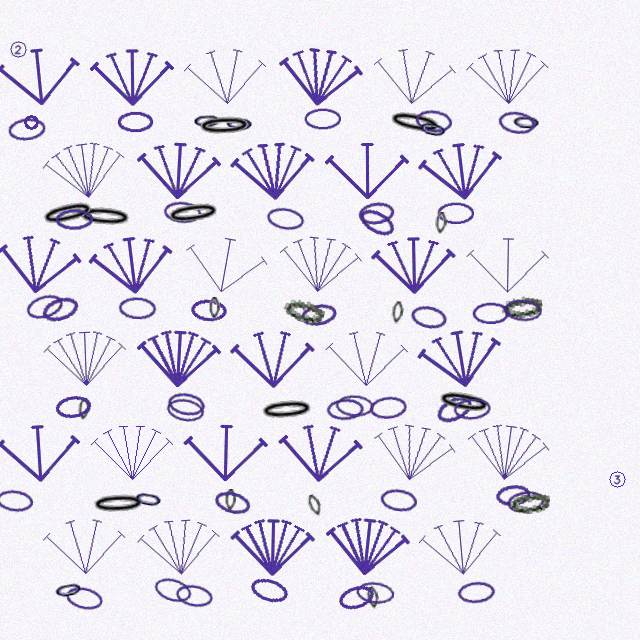chain: (39, 197, 97, 230), (386, 107, 444, 139), (435, 387, 493, 418), (165, 199, 222, 228), (355, 204, 398, 241), (433, 391, 475, 427), (77, 204, 133, 230), (259, 397, 315, 423), (39, 293, 81, 325), (152, 574, 194, 606), (248, 574, 290, 606), (197, 114, 252, 138), (282, 296, 326, 326), (91, 492, 146, 516), (336, 581, 377, 613), (24, 291, 65, 322), (500, 293, 544, 321), (212, 488, 253, 518), (508, 489, 551, 516), (64, 584, 104, 613), (265, 205, 306, 233), (165, 396, 206, 424), (166, 390, 207, 418), (299, 301, 339, 329), (409, 303, 449, 331), (174, 582, 214, 610), (497, 109, 537, 136), (54, 393, 93, 420), (7, 116, 47, 142), (506, 489, 546, 515), (355, 580, 395, 606), (414, 108, 453, 134), (357, 200, 396, 226), (379, 487, 418, 513), (163, 200, 202, 225), (503, 298, 542, 323), (457, 580, 496, 605), (416, 115, 450, 143), (369, 395, 407, 420), (118, 296, 157, 320), (335, 394, 374, 418), (495, 483, 532, 508), (190, 298, 228, 322), (453, 397, 491, 421), (52, 576, 85, 603), (0, 488, 34, 514), (55, 208, 93, 231), (326, 398, 364, 421), (132, 486, 165, 512), (472, 302, 510, 324), (117, 111, 154, 133), (304, 108, 341, 130), (437, 202, 474, 224), (511, 110, 542, 134), (224, 112, 255, 135), (192, 109, 222, 132), (306, 493, 324, 517), (366, 586, 380, 609), (391, 301, 404, 324), (435, 212, 447, 234), (78, 398, 90, 420), (209, 297, 220, 319), (225, 489, 236, 511)
fan: (179, 226, 272, 302), (367, 414, 460, 490), (414, 320, 507, 395), (39, 133, 130, 206), (462, 415, 553, 488), (86, 228, 177, 300), (275, 40, 365, 112), (416, 134, 506, 206), (369, 40, 459, 111), (275, 228, 365, 299), (322, 510, 412, 581), (416, 511, 505, 581), (0, 227, 84, 300), (229, 136, 317, 204), (276, 418, 364, 486), (135, 512, 223, 580), (0, 40, 83, 111), (182, 42, 269, 109), (135, 136, 222, 203), (135, 324, 222, 391), (42, 325, 128, 390), (0, 418, 82, 486), (465, 43, 550, 108), (324, 325, 409, 390), (183, 419, 268, 484), (42, 513, 127, 578), (371, 232, 456, 296), (465, 232, 550, 296), (230, 326, 315, 390), (230, 514, 315, 578), (90, 44, 174, 108), (325, 138, 409, 201), (90, 420, 174, 483)
noise: (8, 39, 29, 60), (607, 469, 628, 490), (22, 113, 41, 132)
